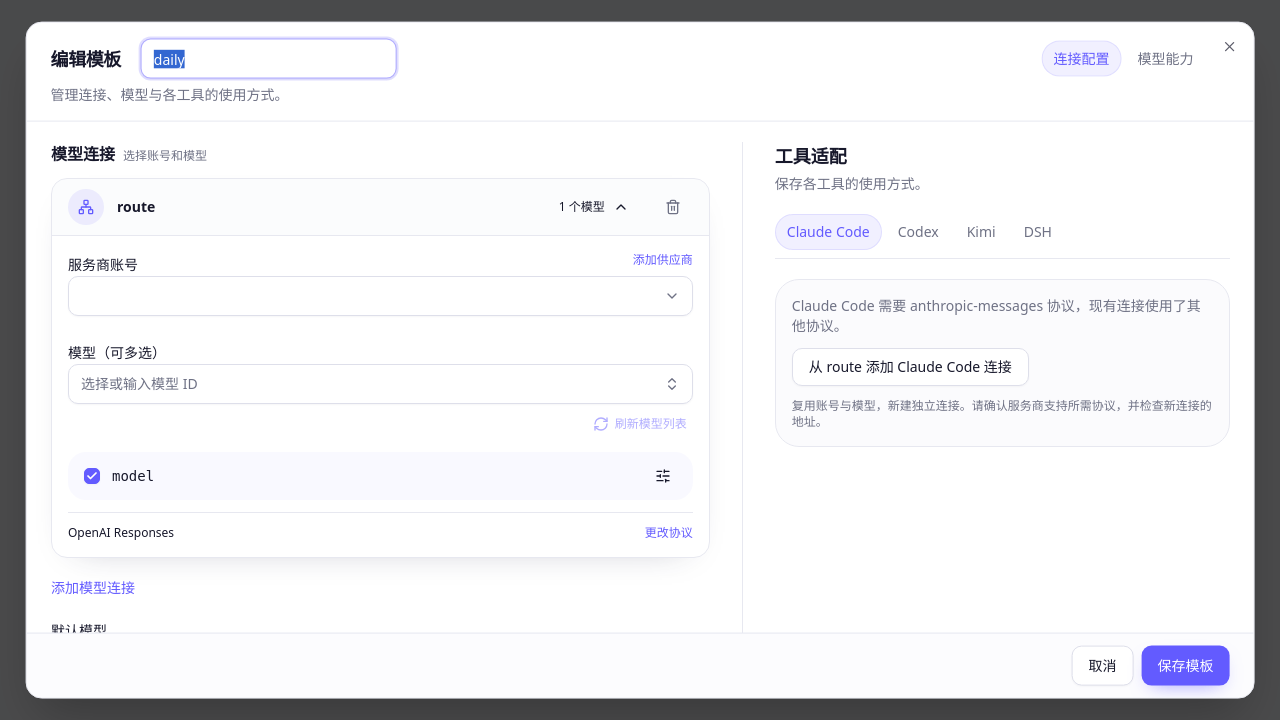
Test case: invalid per-connection capability remains editable and exposes its field error
Click the button "保存模板".
click(1185, 665)  # box x1=1141 y1=645 x2=1229 y2=685
(page scrolled)
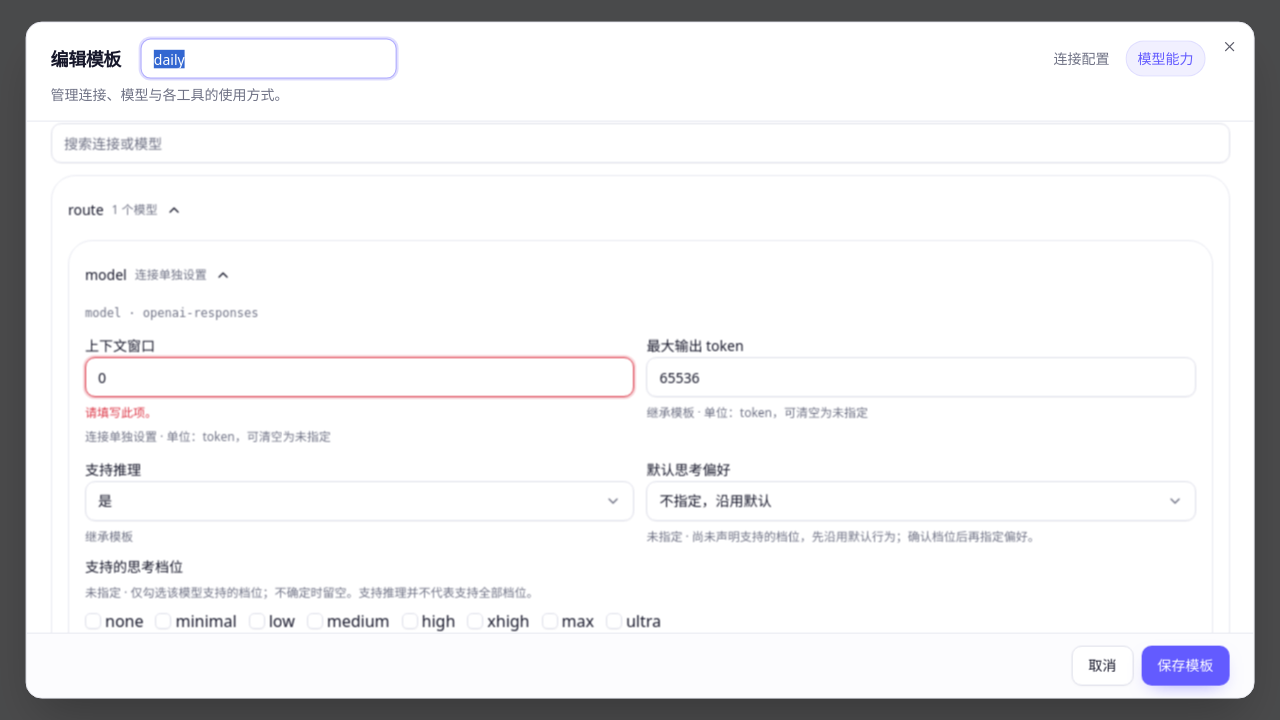
Check: the number field labelled "上下文窗口" holds "0", box x1=85 y1=357 x2=634 y2=397
